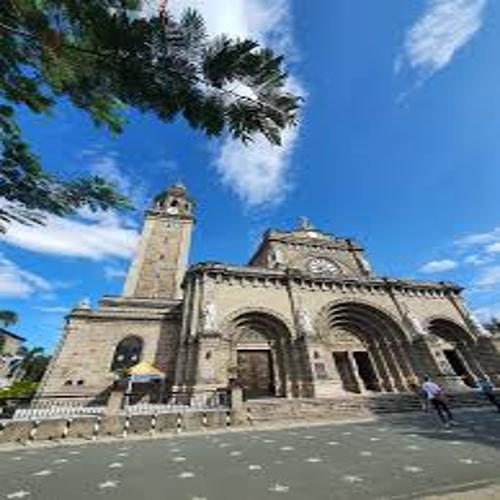Manila Cathedral Church: (22, 162, 496, 419)
